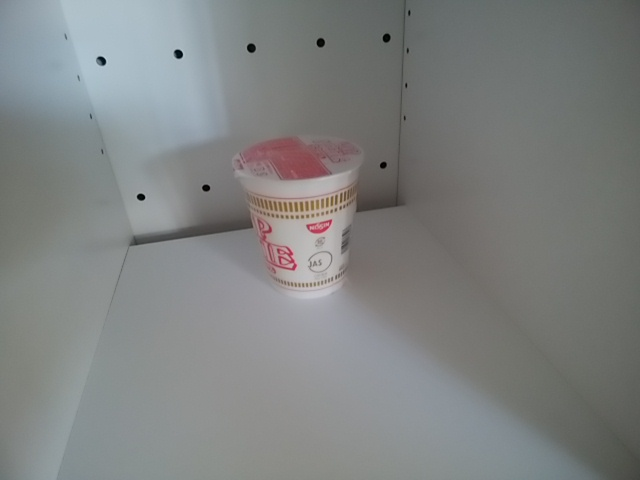cup-ramen: (228, 134, 368, 298)
